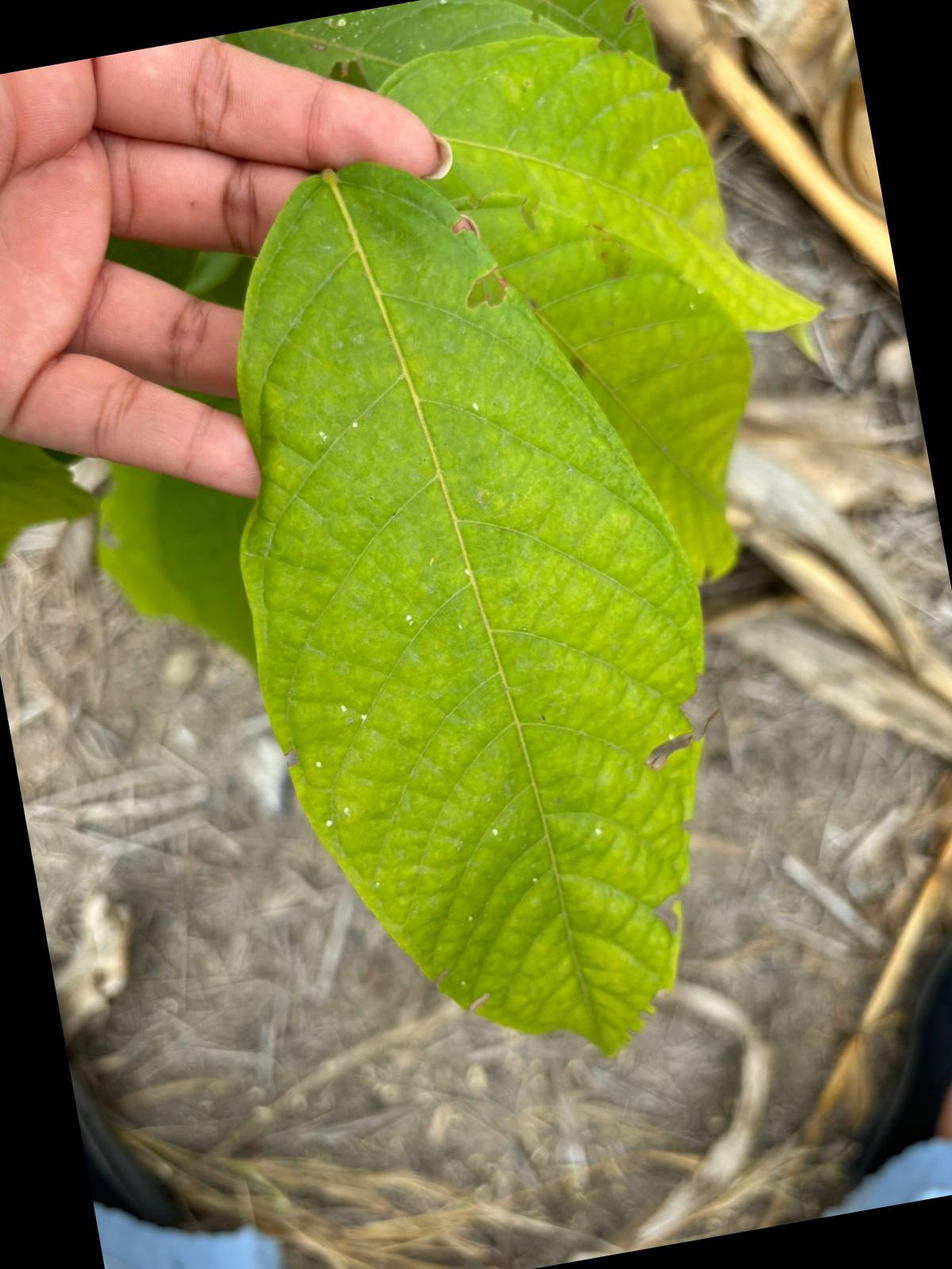Nitrogeno: (237, 164, 700, 1052)
